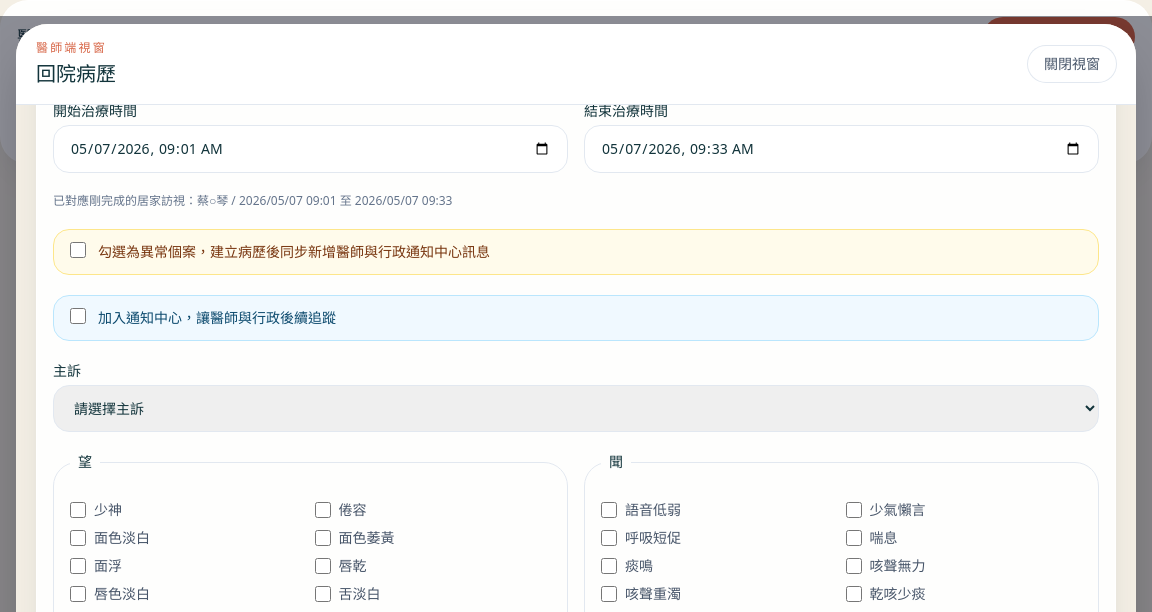
it: DoctorReturnRecordPage › 會顯示長照慢性臥床版四診選單，且勾選其他後出現輸入框
The width and height of the screenshot is (1152, 612).
(page scrolled)
Select "其他" in the dropdown labelled "主訴" at (576, 408), box [53, 385, 1099, 432]
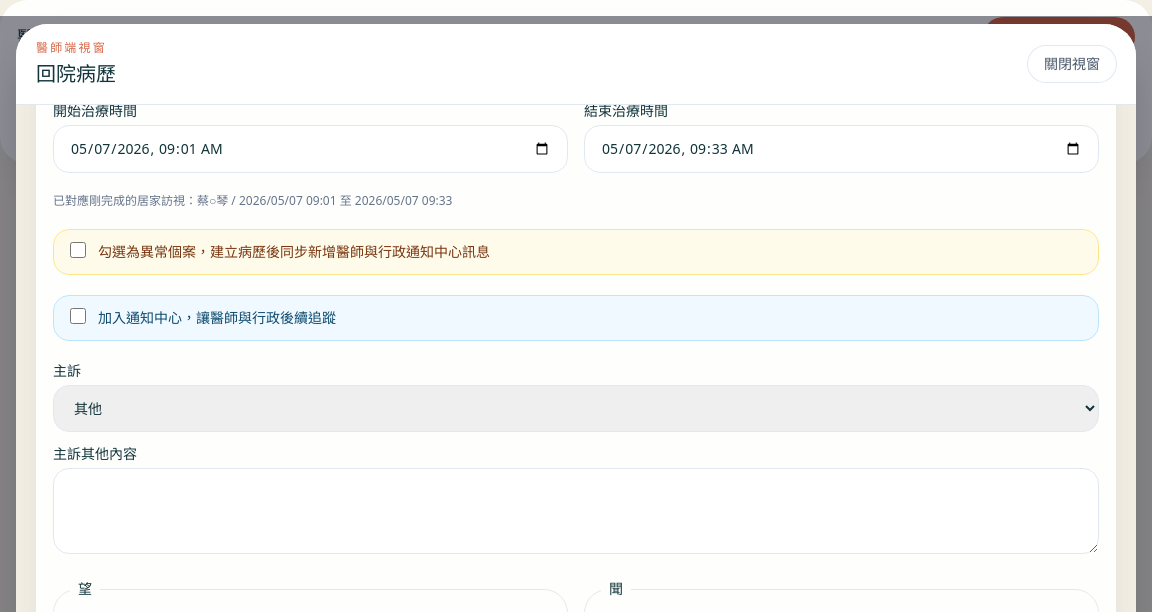
Click the checkbox labelled "加入通知中心，讓醫師與行政後續追蹤".
click(78, 316)  # box [70, 308, 86, 324]
(page scrolled)
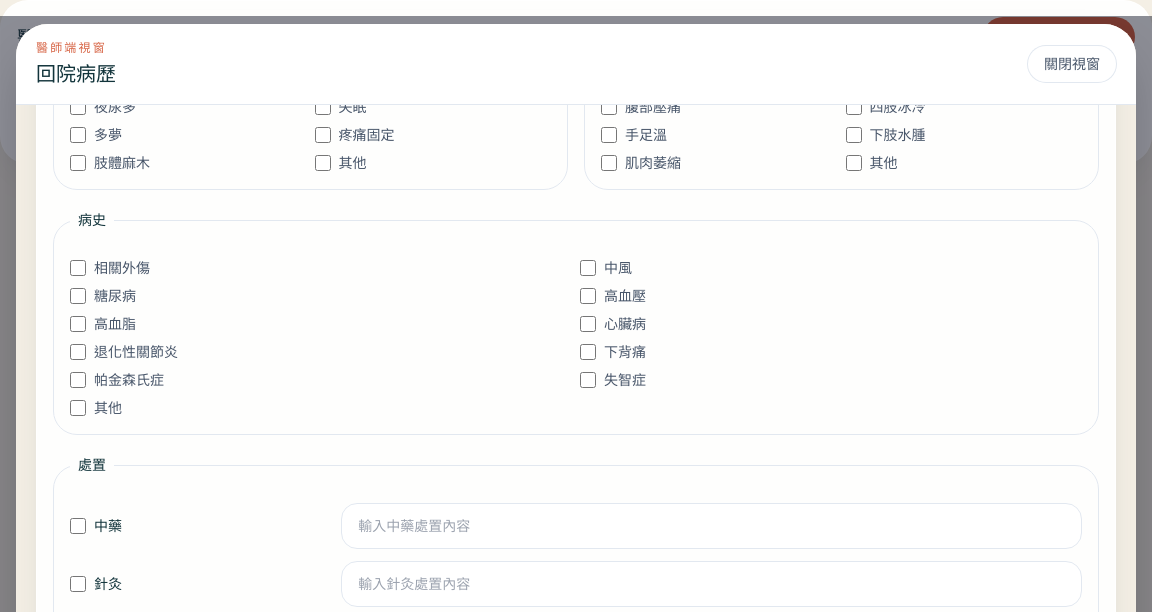
Now the checkbox labelled "相關外傷" is shown, box [70, 260, 86, 276]
Click the checkbox labelled "其他" below "帕金森氏症".
click(78, 408)  # box [70, 400, 86, 416]
(page scrolled)
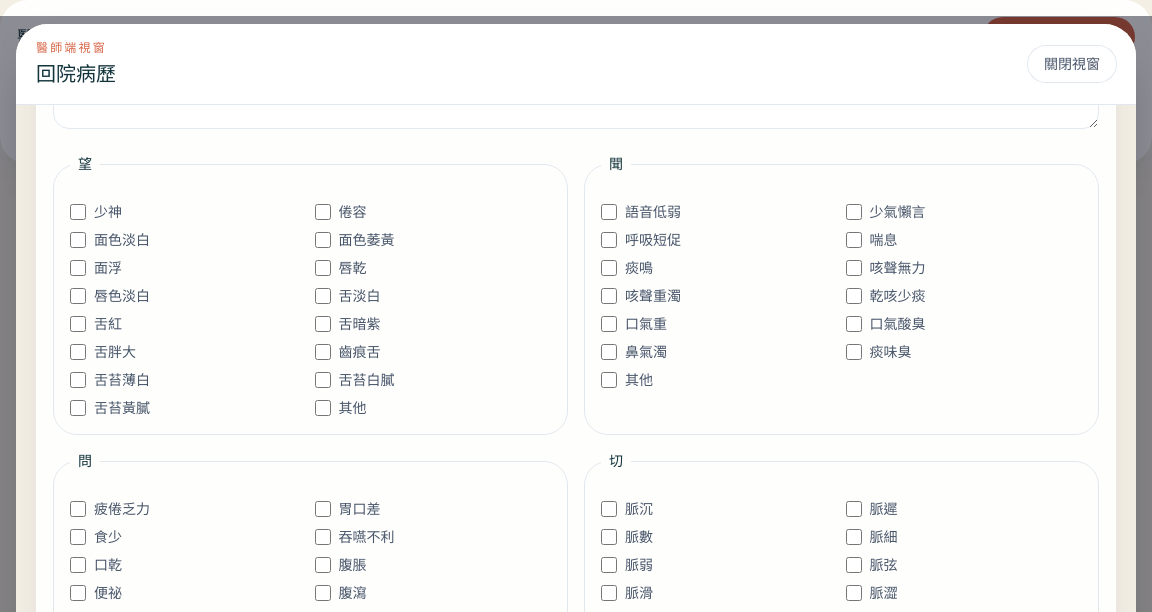
Expected: the field labelled "望 其他" is not shown
Now the checkbox labelled "少神" is shown, box [70, 204, 86, 220]
Click the checkbox labelled "其他" in the row of "舌苔黃膩".
click(322, 408)  # box [314, 400, 330, 416]
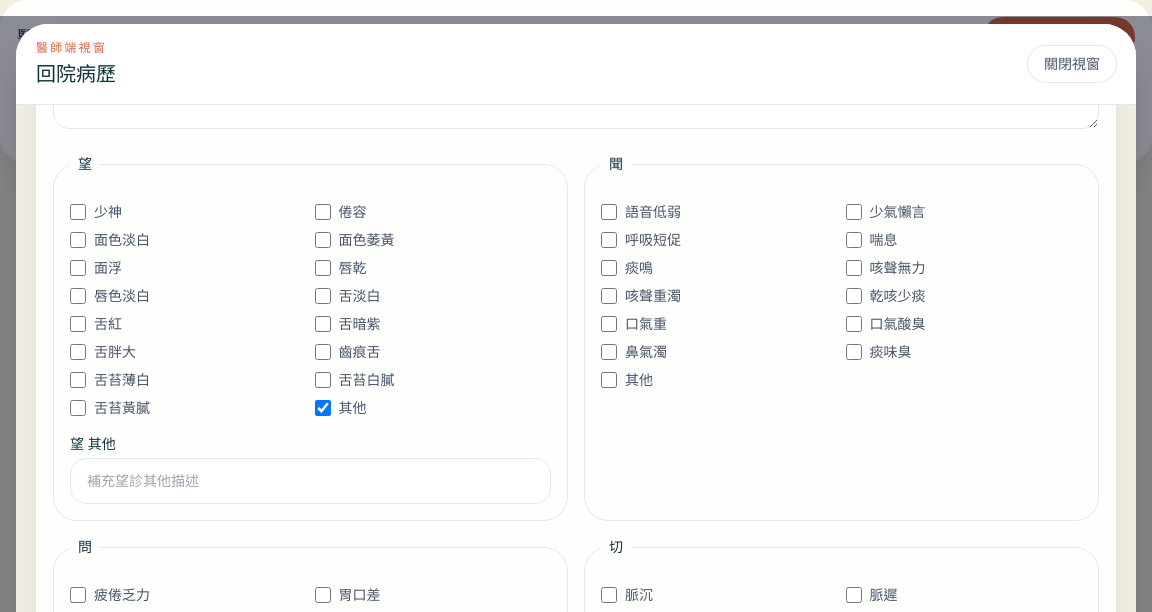
Now the field labelled "望 其他" is shown, box [70, 458, 551, 504]
